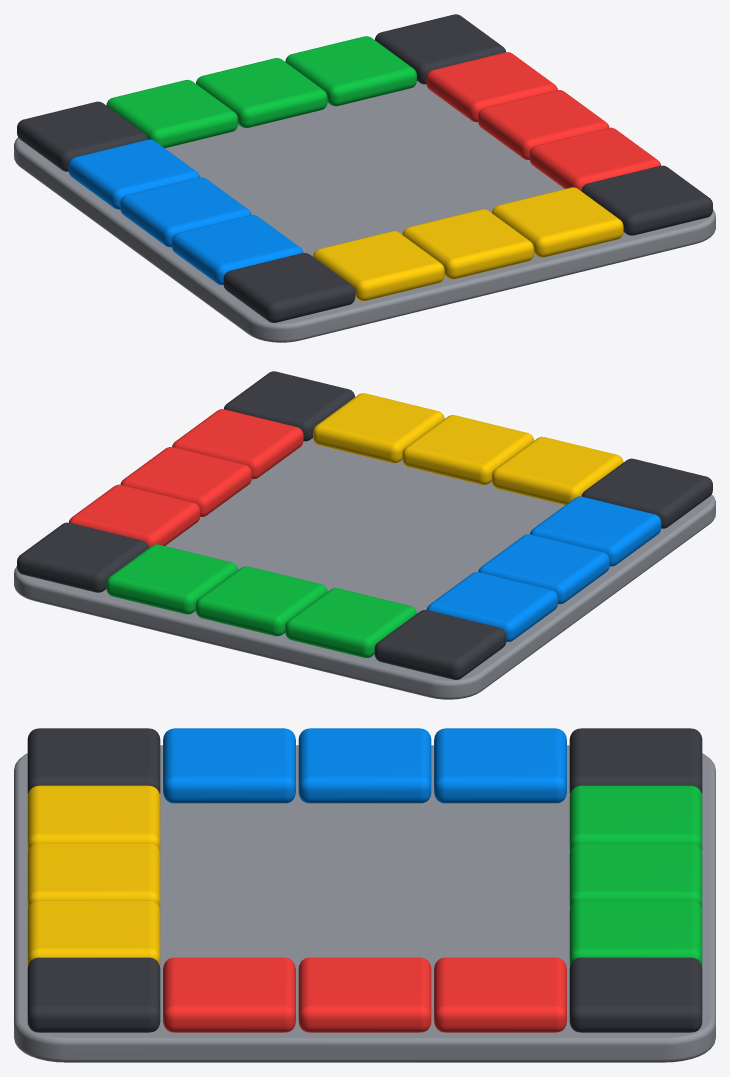
The model's file is Board.fbx.
The picture shows the model from 3 angles, top to bottom: view 1: azimuth 30°, elevation 25°; view 2: azimuth 150°, elevation 25°; view 3: azimuth 270°, elevation 25°; orthographic projection. The views are drawn at different scales.
Parts seen in each view (by area): view 1: Board_Base, Tile_00_Corner, Tile_02_Yellow, Tile_09_Green, Tile_03_Yellow, Tile_10_Green, Tile_01_Yellow, Tile_04_Corner, Tile_11_Green, Tile_13_Blue, Tile_07_Red, Tile_14_Blue (+5 smaller); view 2: Board_Base, Tile_12_Corner, Tile_10_Green, Tile_03_Yellow, Tile_09_Green, Tile_02_Yellow, Tile_08_Corner, Tile_11_Green, Tile_01_Yellow, Tile_15_Blue, Tile_05_Red, Tile_14_Blue (+5 smaller); view 3: Board_Base, Tile_14_Blue, Tile_04_Corner, Tile_06_Red, Tile_08_Corner, Tile_13_Blue, Tile_15_Blue, Tile_05_Red, Tile_07_Red, Tile_00_Corner, Tile_12_Corner, Tile_01_Yellow (+5 smaller).
Part boxes in pixels (x1,y1,x2,y2): Board_Base: (14,81,715,342); Tile_00_Corner: (223,253,355,322); Tile_02_Yellow: (402,209,534,279); Tile_09_Green: (285,36,416,106); Tile_03_Yellow: (492,187,623,257); Tile_10_Green: (196,58,327,127); Tile_01_Yellow: (313,231,444,300); Tile_04_Corner: (581,165,712,235); Tile_11_Green: (106,79,237,148); Tile_13_Blue: (68,139,199,209); Tile_07_Red: (426,52,557,122); Tile_14_Blue: (120,177,251,247); Board_Base: (14,438,715,699); Tile_12_Corner: (374,610,506,679); Tile_10_Green: (195,566,327,636); Tile_03_Yellow: (313,393,444,463); Tile_09_Green: (106,544,237,614); Tile_02_Yellow: (402,415,533,484); Tile_08_Corner: (17,522,148,592); Tile_11_Green: (285,588,416,657); Tile_01_Yellow: (492,436,623,505); Tile_15_Blue: (530,496,661,566); Tile_05_Red: (172,409,303,479); Tile_14_Blue: (478,534,609,604); Board_Base: (14,745,715,1062); Tile_14_Blue: (298,728,431,803); Tile_04_Corner: (27,957,160,1032); Tile_06_Red: (298,957,431,1032); Tile_08_Corner: (569,957,702,1032); Tile_13_Blue: (434,728,566,803); Tile_15_Blue: (163,728,295,803); Tile_05_Red: (163,957,295,1032); Tile_07_Red: (434,957,566,1032); Tile_00_Corner: (27,728,160,793); Tile_12_Corner: (569,728,702,793); Tile_01_Yellow: (27,785,160,850).
Size of the model in its own units: 5.18 by 0.4 by 5.18.
